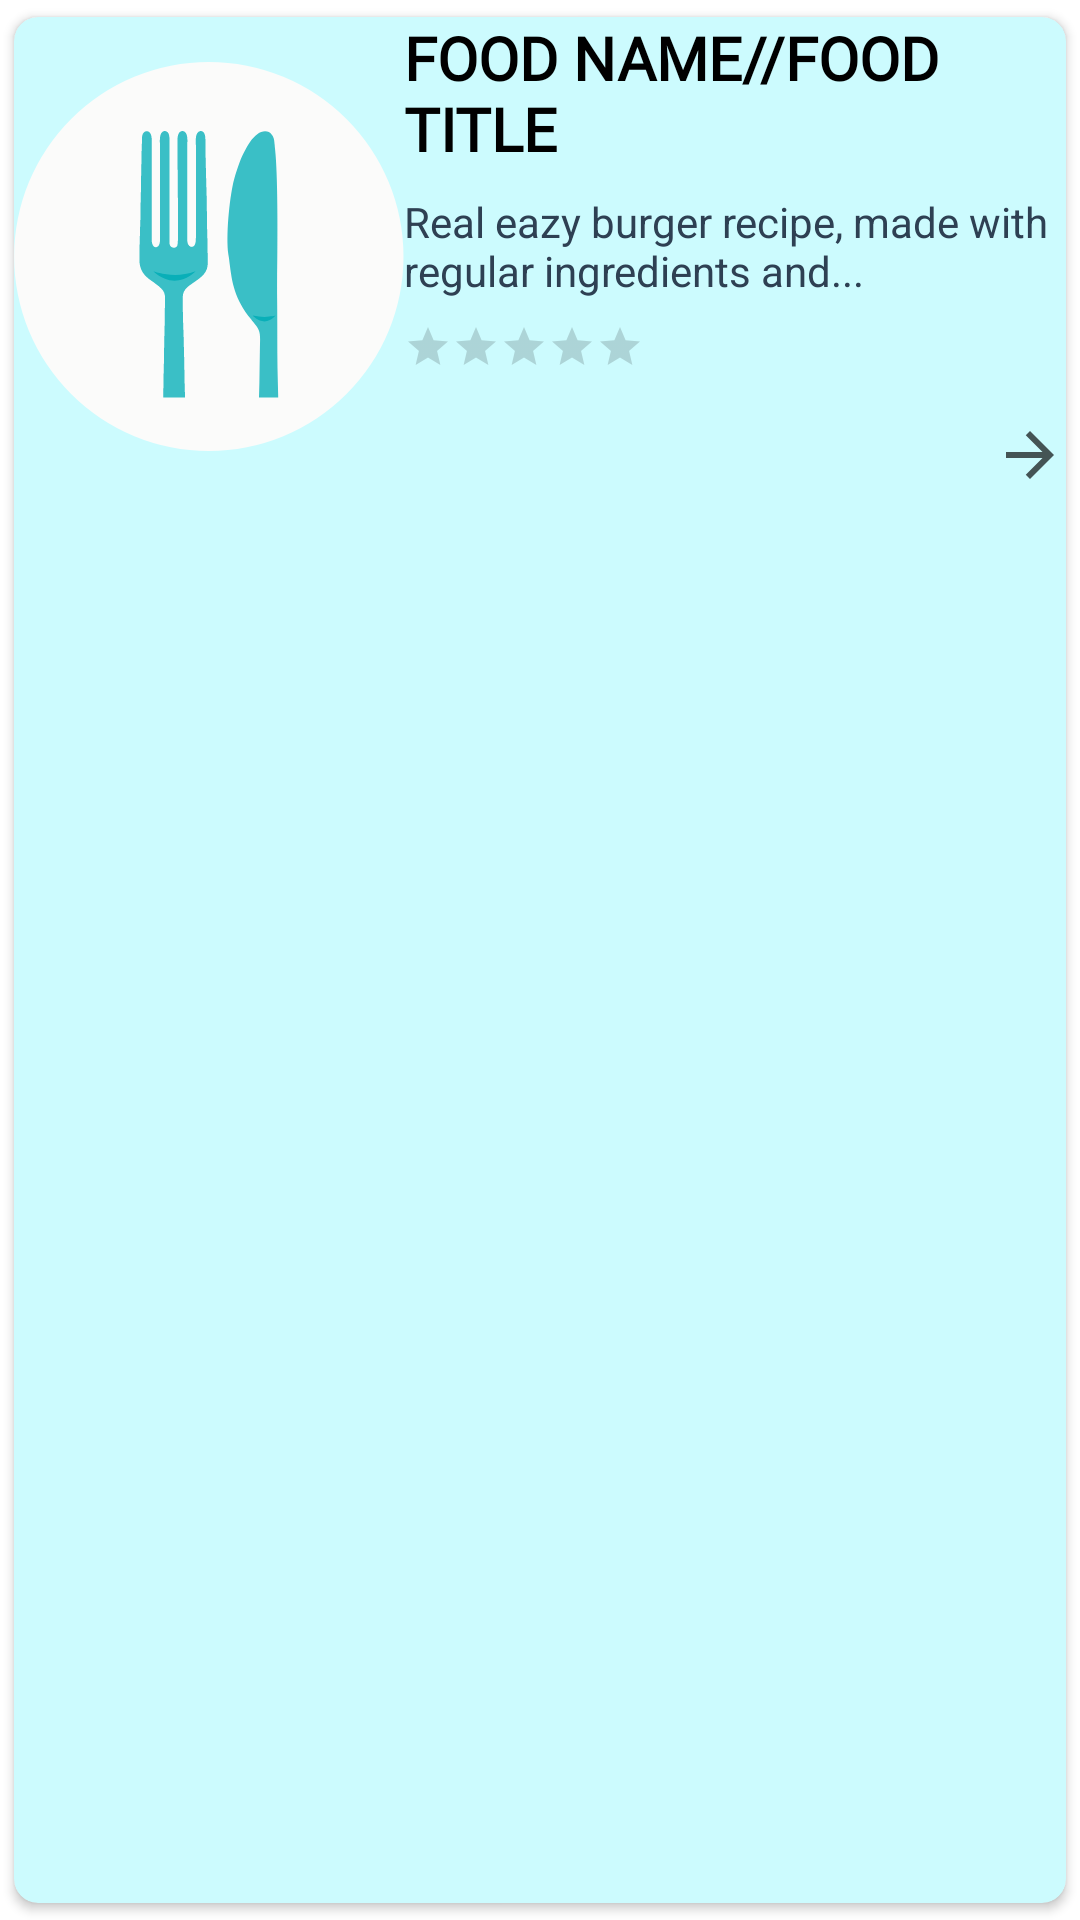

Icons on this 1080 × 1920 Android screen, each with the point to tap as (x,y):
arrow forward: (1030,455)
